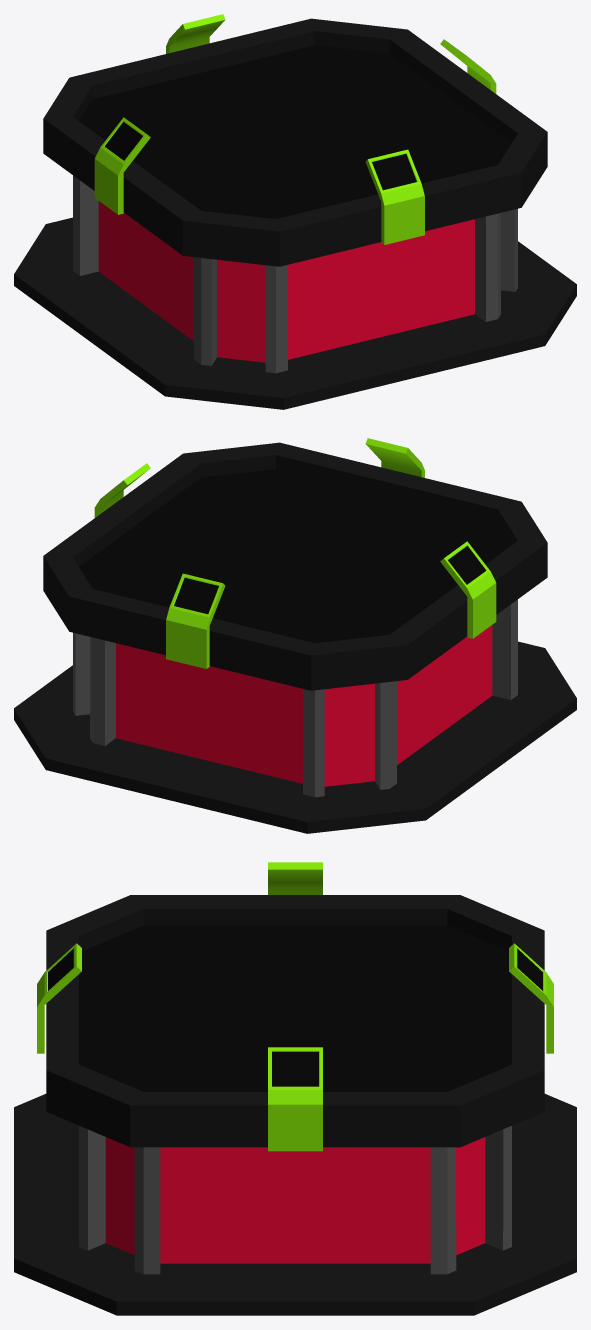
File: Table.fbx
The picture shows the model from 3 angles, top to bottom: view 1: azimuth 30°, elevation 25°; view 2: azimuth 150°, elevation 25°; view 3: azimuth 270°, elevation 25°; orthographic projection. The views are drawn at different scales.
Parts seen in each view (by area): view 1: Table, Panel; view 2: Table, Panel; view 3: Table, Panel.
Boxes of the visible parts, x1,y1,x2,y2 form: Table: [14, 18, 576, 409]; Panel: [94, 14, 496, 244]; Table: [14, 442, 576, 833]; Panel: [94, 438, 496, 668]; Table: [14, 895, 576, 1315]; Panel: [37, 862, 553, 1151].
Size of the model in its own units: 51.18 by 24.25 by 51.18.
